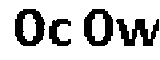0: (82, 4, 114, 51), (13, 3, 45, 49), (48, 15, 75, 49)
w: (115, 16, 160, 49)
